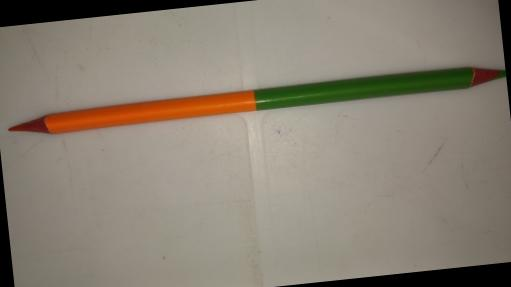Pencil: (6, 60, 506, 134)
